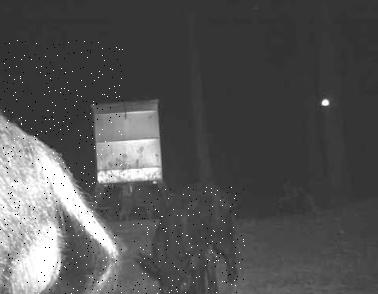Hog: (0, 40, 123, 294), (133, 187, 245, 294)
